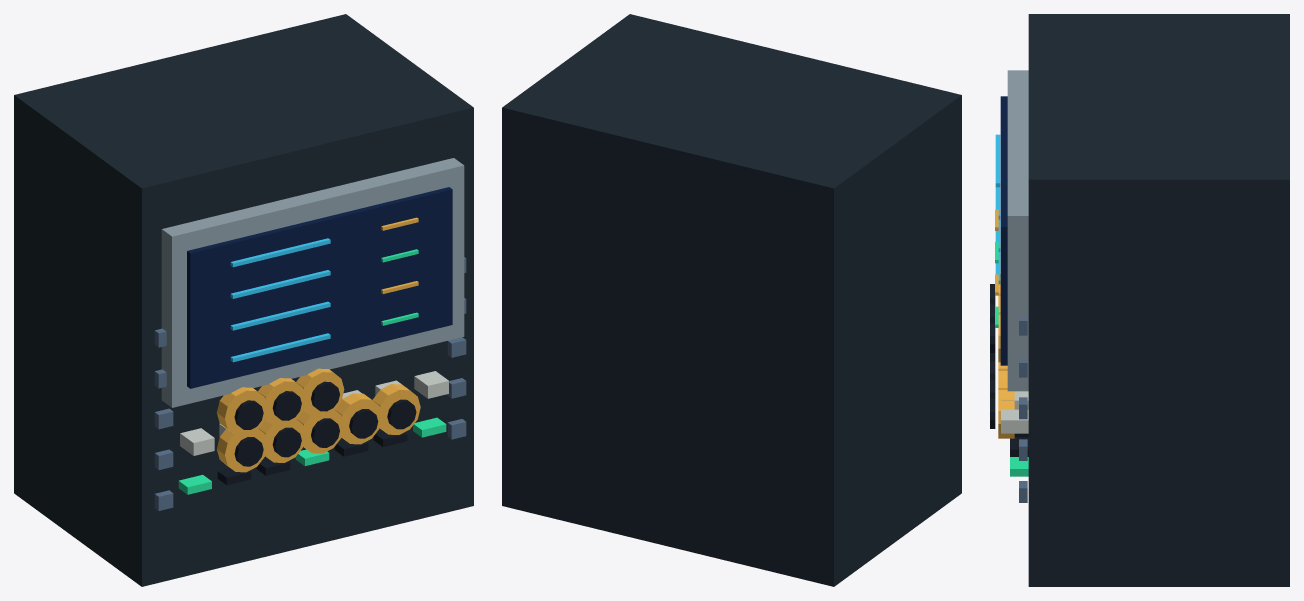
Rendered from 43_L84_AttitudeStateEstimator.fbx.
3 views of the same model, side by side, from view 1: azimuth 30°, elevation 25°; view 2: azimuth 150°, elevation 25°; view 3: azimuth 270°, elevation 25° (orthographic). The views are drawn at different scales.
Visible parts, largest first — view 1: L84_AttitudeStateEstimator, L84_AttitudeStateEstimator_Part_0019, L84_AttitudeStateEstimator_Part_0017, L84_AttitudeStateEstimator_Part_0009, L84_AttitudeStateEstimator_Part_0015, L84_AttitudeStateEstimator_Part_0023, L84_AttitudeStateEstimator_Part_0021, L84_AttitudeStateEstimator_Part_0013, L84_AttitudeStateEstimator_Part_0011, L84_AttitudeStateEstimator_Part_0018, L84_AttitudeStateEstimator_Part_0012, L84_AttitudeStateEstimator_Part_0014 (+5 smaller); view 2: L84_AttitudeStateEstimator; view 3: L84_AttitudeStateEstimator, L84_AttitudeStateEstimator_Part_0017.
Part boxes in pixels (<box>): L84_AttitudeStateEstimator: <box>14,14,473,586</box>; L84_AttitudeStateEstimator_Part_0019: <box>216,387,267,435</box>; L84_AttitudeStateEstimator_Part_0017: <box>372,384,420,434</box>; L84_AttitudeStateEstimator_Part_0009: <box>217,427,267,472</box>; L84_AttitudeStateEstimator_Part_0015: <box>335,393,382,444</box>; L84_AttitudeStateEstimator_Part_0023: <box>296,368,344,416</box>; L84_AttitudeStateEstimator_Part_0021: <box>258,378,305,426</box>; L84_AttitudeStateEstimator_Part_0013: <box>297,409,344,453</box>; L84_AttitudeStateEstimator_Part_0011: <box>258,418,305,462</box>; L84_AttitudeStateEstimator_Part_0018: <box>387,399,416,429</box>; L84_AttitudeStateEstimator_Part_0012: <box>272,427,301,457</box>; L84_AttitudeStateEstimator_Part_0014: <box>311,418,339,447</box>; L84_AttitudeStateEstimator: <box>502,14,961,586</box>; L84_AttitudeStateEstimator: <box>995,14,1289,586</box>; L84_AttitudeStateEstimator_Part_0017: <box>998,388,1014,438</box>.
Bounding box in the file's own units: 99.96 × 115 × 76.52.
